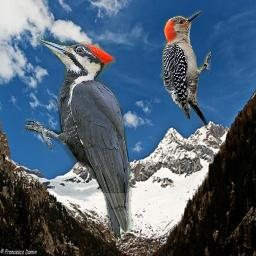Woodpecker: (25, 37, 139, 245), (158, 8, 211, 136)
